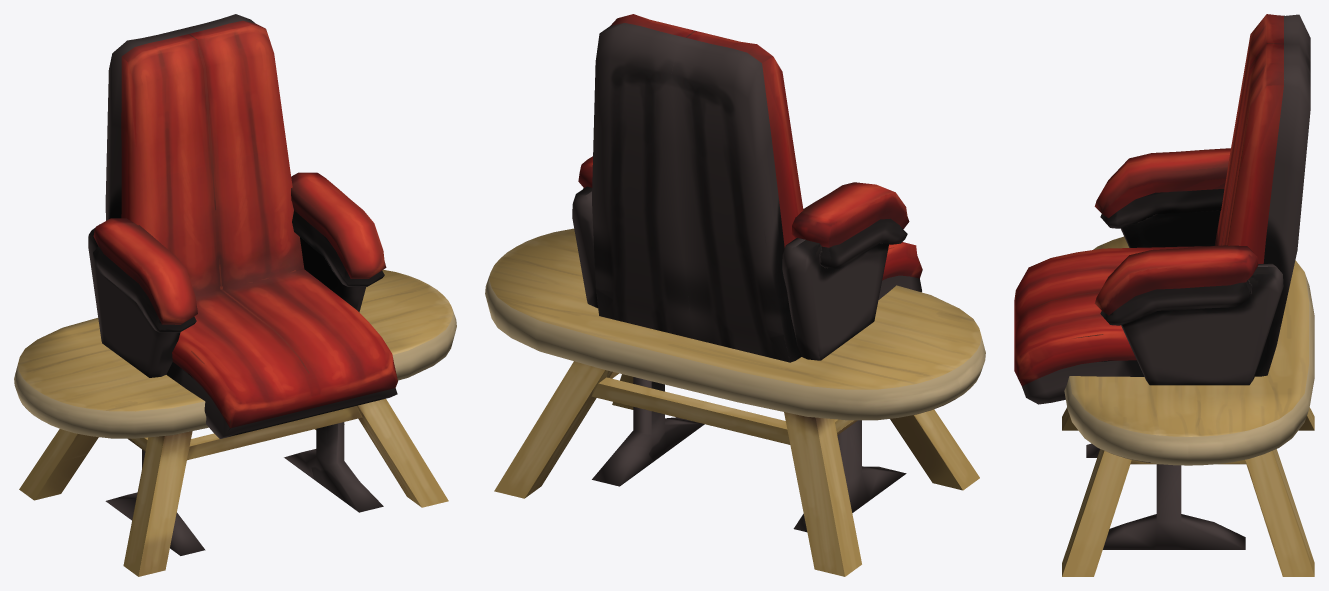
The model's file is props(mesa&silla).fbx.
The picture shows the model from 3 angles, left to right: view 1: azimuth 30°, elevation 25°; view 2: azimuth 150°, elevation 25°; view 3: azimuth 270°, elevation 25°; orthographic projection. The views are drawn at different scales.
Visible parts, largest first — view 1: Cube.001, Cube, Cube.002, Cube.003; view 2: Cube.001, Cube, Cube.003, Cube.002; view 3: Cube.001, Cube.002, Cube, Cube.003.
Boxes of the visible parts, bbox=[...] form: Cube.001: bbox=[105, 14, 397, 555]; Cube: bbox=[14, 270, 456, 438]; Cube.002: bbox=[88, 172, 386, 377]; Cube.003: bbox=[19, 398, 448, 576]; Cube.001: bbox=[592, 14, 922, 532]; Cube: bbox=[485, 228, 985, 420]; Cube.003: bbox=[494, 361, 979, 576]; Cube.002: bbox=[572, 156, 909, 360]; Cube.001: bbox=[1014, 14, 1310, 549]; Cube.002: bbox=[1094, 148, 1283, 385]; Cube: bbox=[1064, 236, 1314, 465]; Cube.003: bbox=[1062, 407, 1314, 576].
Bounding box in the file's own units: 80 × 79.52 × 47.58.
